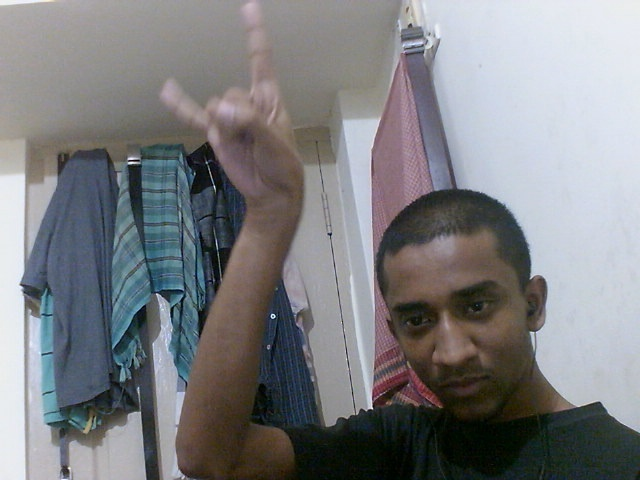hand: (157, 3, 312, 217)
